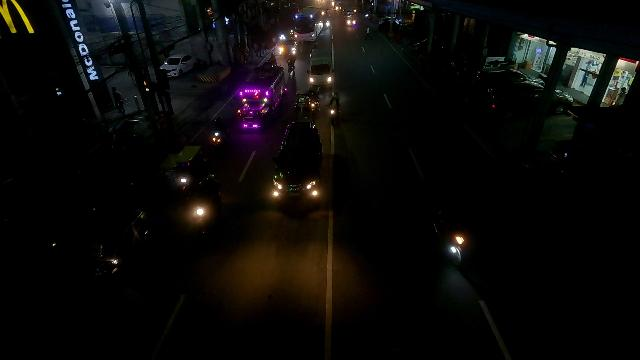bus: (291, 5, 323, 44)
car: (272, 121, 324, 199)
jeepney: (234, 63, 285, 133)
motorcycle: (327, 92, 340, 114)
van: (308, 47, 334, 87)
